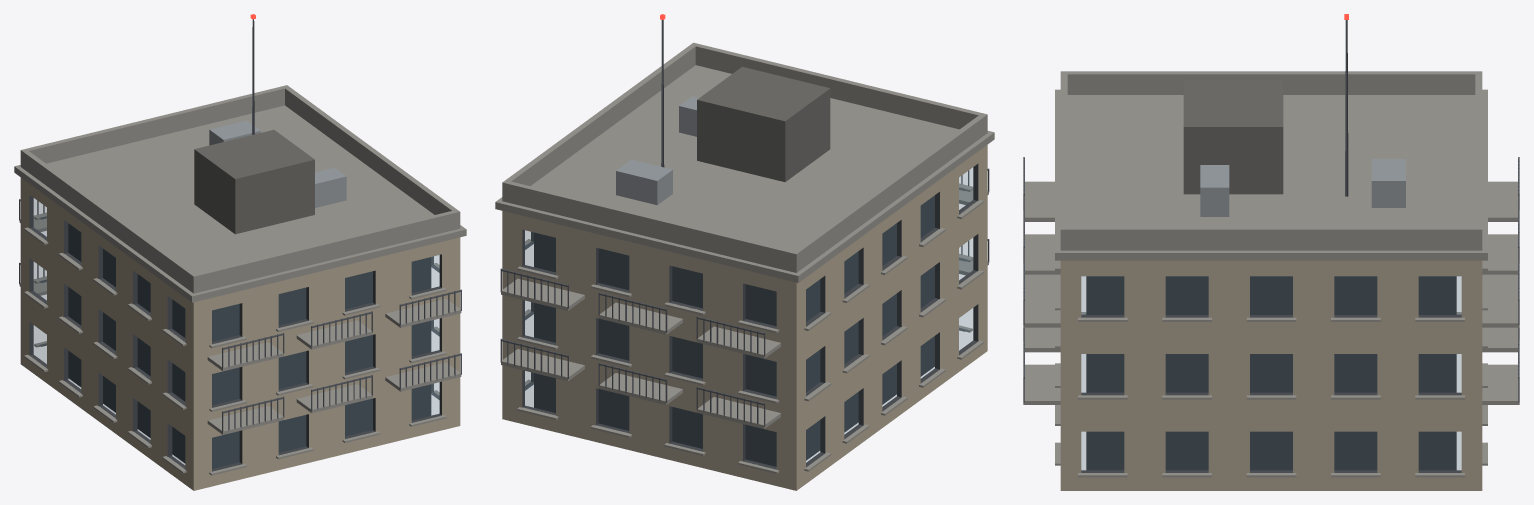
The model's file is apartment-2.glb.
The picture shows the model from 3 angles, left to right: view 1: azimuth 30°, elevation 25°; view 2: azimuth 150°, elevation 25°; view 3: azimuth 270°, elevation 25°; orthographic projection. The views are drawn at different scales.
Parts seen in each view (by area): view 1: apartment-2; view 2: apartment-2; view 3: apartment-2.
Part boxes in pixels (<box>): apartment-2: <box>14,14,466,490</box>; apartment-2: <box>495,14,994,490</box>; apartment-2: <box>1023,14,1519,490</box>.
Size of the model in its own units: 13.54 by 16.35 by 17.4.
